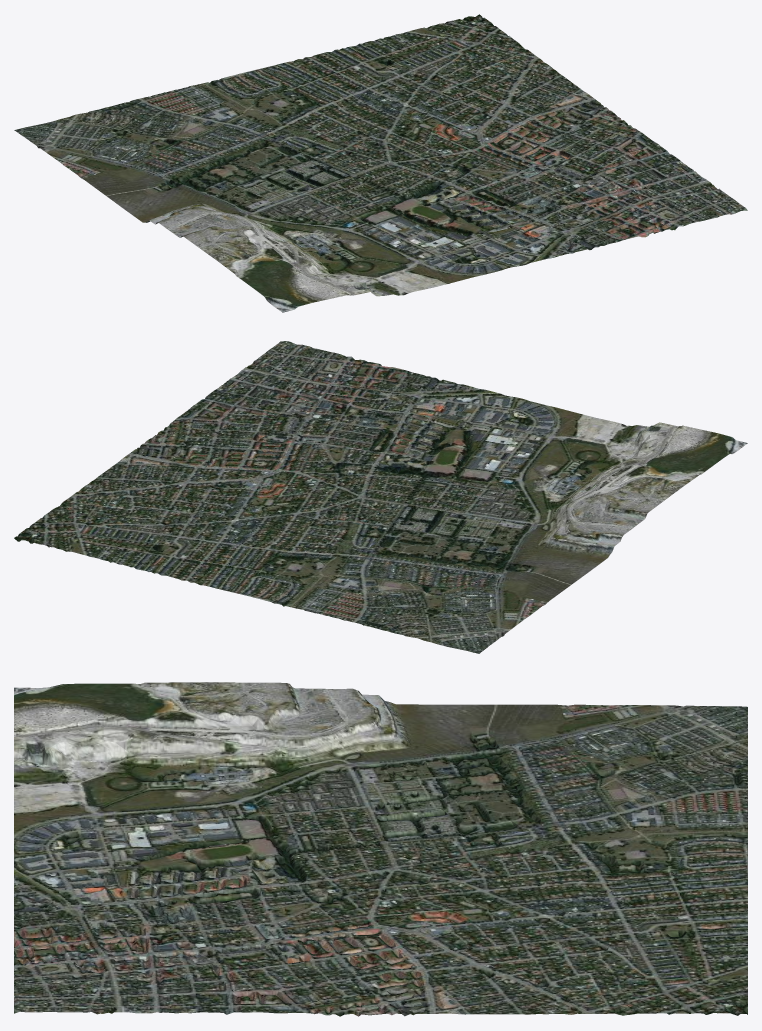
Rendered from map_10_249_423.dae.
The picture shows the model from 3 angles, top to bottom: view 1: azimuth 30°, elevation 25°; view 2: azimuth 150°, elevation 25°; view 3: azimuth 270°, elevation 25°; orthographic projection. The views are drawn at different scales.
Parts seen in each view (by area): view 1: Ter0; view 2: Ter0; view 3: Ter0.
Part boxes in pixels (left/top/right/bottom): Ter0: left=14, top=14, right=747, bottom=312; Ter0: left=14, top=341, right=747, bottom=653; Ter0: left=14, top=682, right=747, bottom=1016.
Bounding box in the file's own units: 2044 × 2044 × 89.02.
3 materials, 3 textured.
